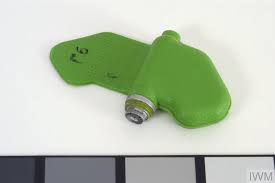butterfly: (44, 21, 234, 134)
